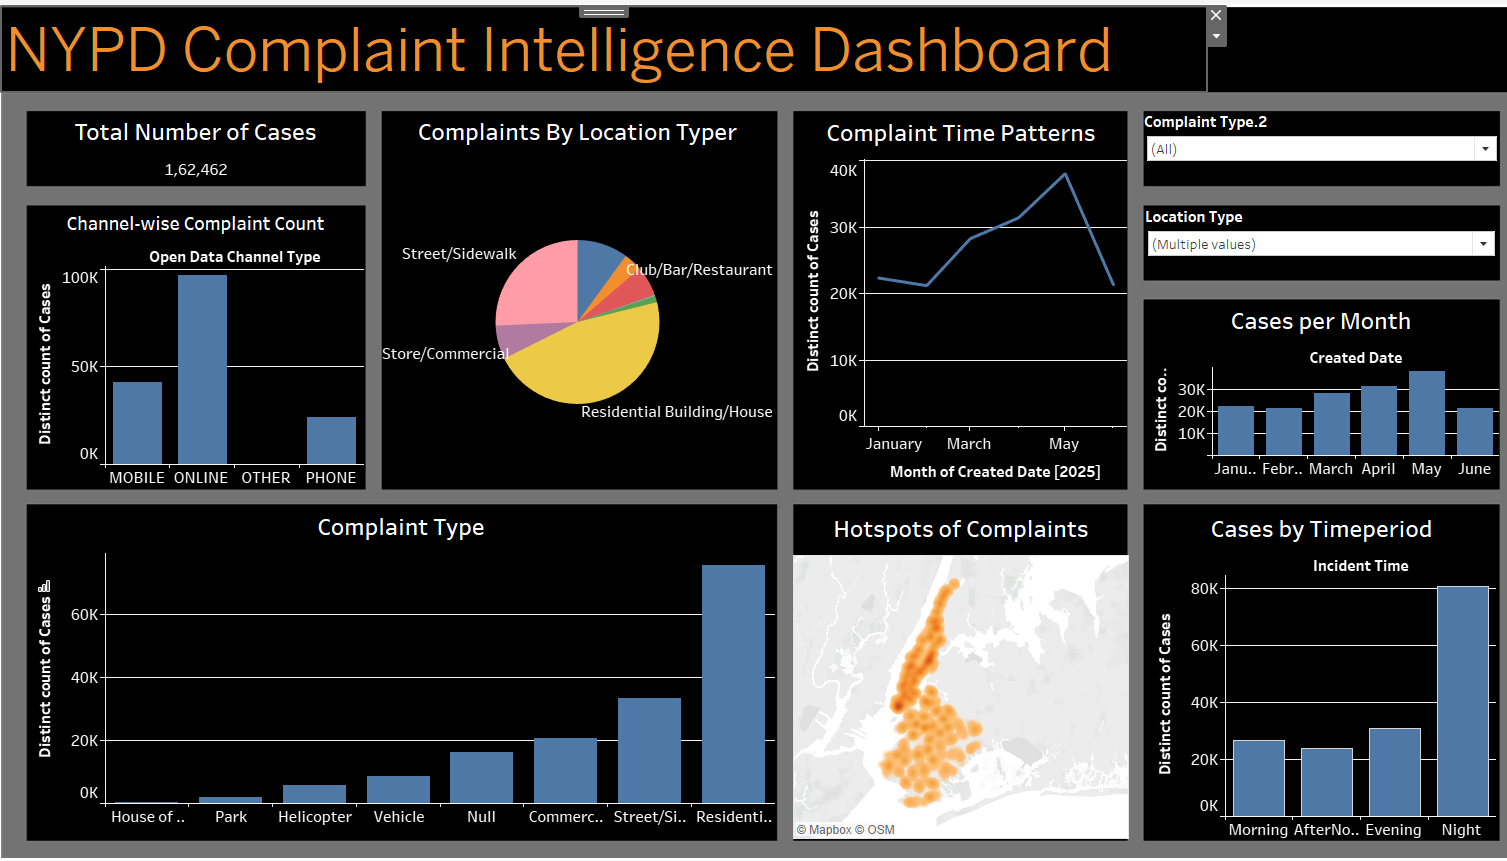

The dashboard page shown, as its layout file describes it:
{"tool":"tableau","page":{"name":"Dashboard 1 (2)","canvas":[1520,960],"ordinal":1},"visuals":[{"type":"image","param":"C:/Users/amitb/Downloads/1.jpg","box":[2,3,1513,919]},{"type":"text","box":[3,3,1204,84]},{"type":"worksheet","title":"Total Cases","mark":"Automatic","box":[28,107,339,75]},{"type":"worksheet","title":"Complaints by Location Type","mark":"Pie","box":[382,107,395,378]},{"type":"filter","title":"Mapped Hotspots of Complaints","param":"[federated.16strwb0fnbina19fs09i059r333].[none:Complaint Type.2:nk]","box":[1145,107,356,76]},{"type":"worksheet","title":"Complaint Time Pattern","mark":"Automatic","rows":["Unique Key"],"cols":["Created Date"],"box":[796,108,332,377]},{"type":"worksheet","title":"Channel-wise Complaint Count","mark":"Automatic","rows":["Unique Key"],"cols":["Open Data Channel Type"],"box":[28,202,337,283]},{"type":"filter","title":"Mapped Hotspots of Complaints","param":"[federated.16strwb0fnbina19fs09i059r333].[none:Location Type:nk]","box":[1146,202,353,74]},{"type":"worksheet","title":"Sheet 8","mark":"Bar","rows":["Unique Key"],"cols":["Created Date"],"box":[1144,296,356,190]},{"type":"worksheet","title":"Complaint Type","mark":"Automatic","rows":["Unique Key"],"cols":["Complaint Type.2"],"box":[28,502,748,337]},{"type":"worksheet","title":"Mapped Hotspots of Complaints","mark":"Heatmap","rows":["Latitude"],"cols":["Longitude"],"box":[794,504,336,331]},{"type":"worksheet","title":"Cases by Time Period","mark":"Automatic","rows":["Unique Key"],"cols":["Incident Time"],"box":[1148,504,349,333]}]}

Visuals, with their boxes on the page's 1520x960 design canvas (x1, y1, x2, y2). These are canvas units, not pixel positions in the 1507x861 screenshot, which may show the page scaled, cropped or inside an application window:
image: 2/3/1515/922
text: 3/3/1207/87
"Total Cases" worksheet: 28/107/367/182
"Complaints by Location Type" worksheet (Pie marks): 382/107/777/485
"Mapped Hotspots of Complaints" filter: 1145/107/1501/183
"Complaint Time Pattern" worksheet: 796/108/1128/485
"Channel-wise Complaint Count" worksheet: 28/202/365/485
"Mapped Hotspots of Complaints" filter: 1146/202/1499/276
"Sheet 8" worksheet (Bar marks): 1144/296/1500/486
"Complaint Type" worksheet: 28/502/776/839
"Mapped Hotspots of Complaints" worksheet (Heatmap marks): 794/504/1130/835
"Cases by Time Period" worksheet: 1148/504/1497/837
